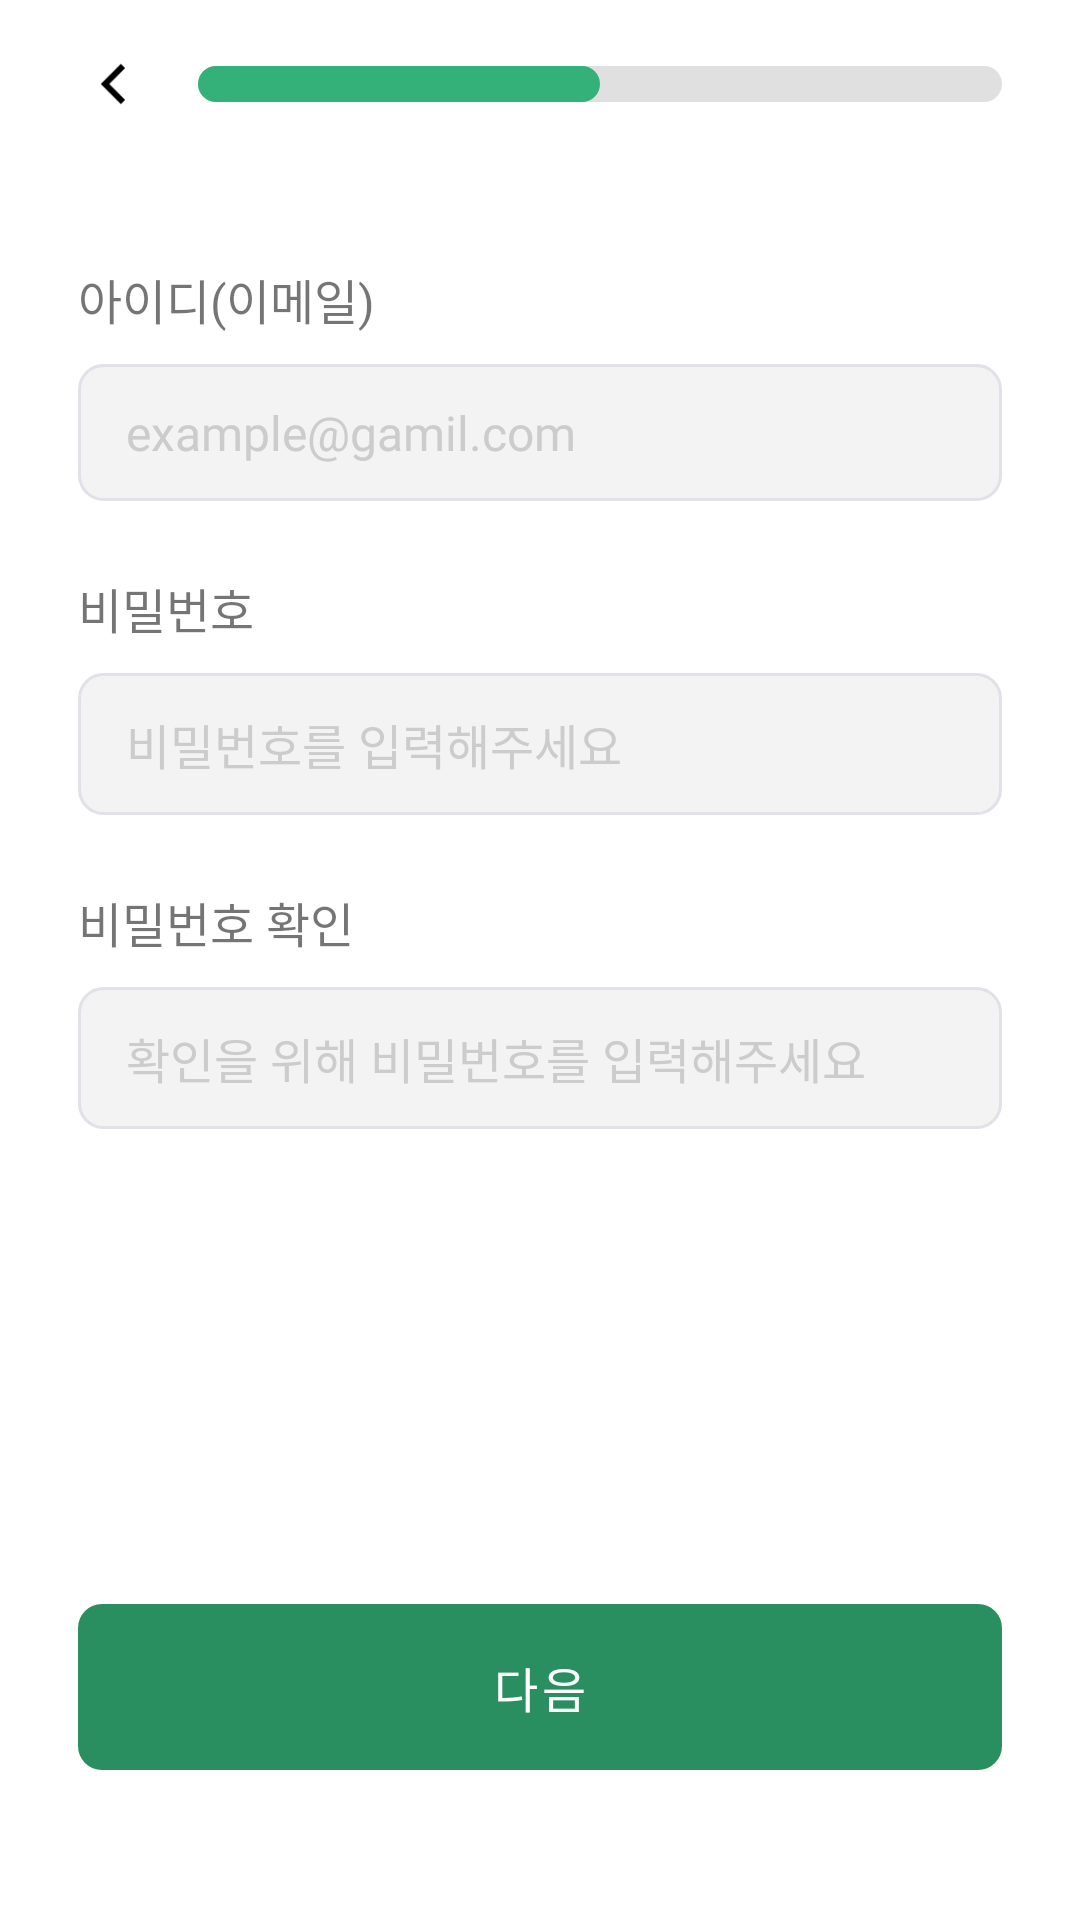

Screen size 1080w x 1920h. Icon name, then its box in pixels as (x1, y1, x2, y2):
left arrow: (101, 63, 125, 105)
